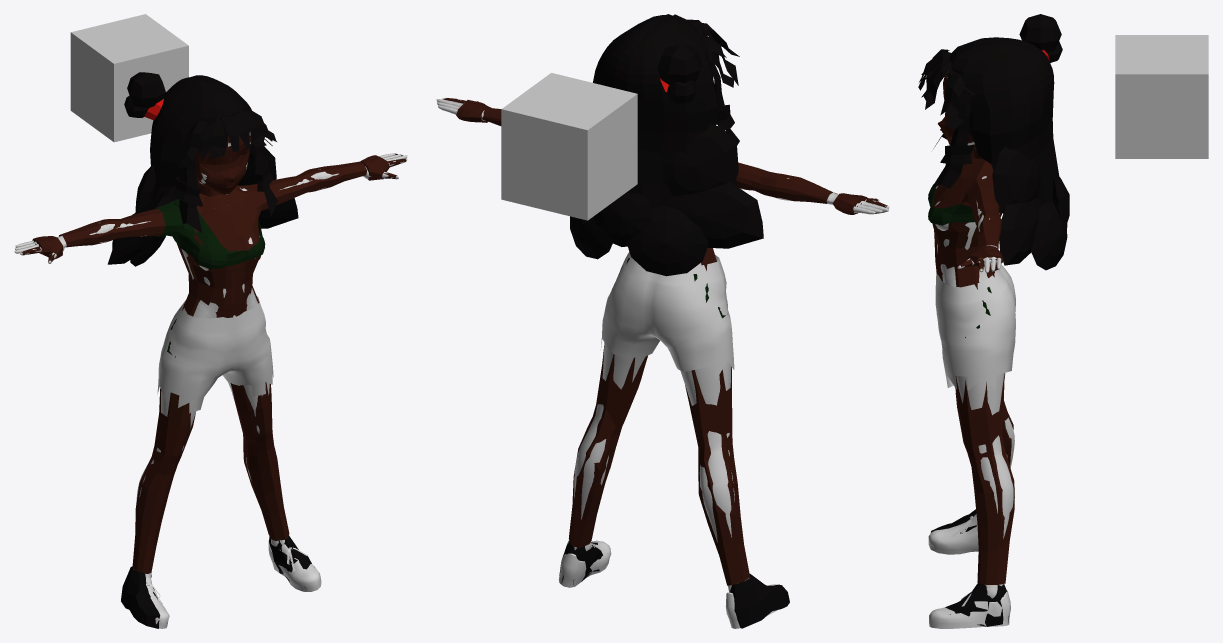
File: miskha LOW POLY 01.obj
3 renders of one model, left to right at view 1: azimuth 30°, elevation 25°; view 2: azimuth 150°, elevation 25°; view 3: azimuth 270°, elevation 25°, orthographic. The views are drawn at different scales.
Visible parts, largest first — view 1: Body_Plane, Cube, Body.045_Body_(merged).baked.045, Sphere, Arms_Plane.001, Shoes_Cube.001, Body.003_Plane.004, Body.002_Body_(merged).baked.002, Body.004_Plane.006, Sphere.002, Sphere.006, Sphere.008 (+8 smaller); view 2: Cube, Body.045_Body_(merged).baked.045, Sphere, Body_Plane, Body.002_Body_(merged).baked.002, Sphere.003, Sphere.002, Sphere.005, Shoes_Cube.001, Arms_Plane.001, Sphere.004, Cube.001_Cube.002 (+2 smaller); view 3: Cube, Sphere, Body_Plane, Body.045_Body_(merged).baked.045, Body.002_Body_(merged).baked.002, Sphere.005, Sphere.002, Sphere.003, Arms_Plane.001, Body.046_Body_(merged).baked.046, Shoes_Cube.001, Body.047_Body_(merged).baked.047 (+8 smaller).
Part boxes in pixels (x1,y1,x2,y2): Body_Plane: [132, 180, 289, 573]; Cube: [70, 14, 188, 142]; Body.045_Body_(merged).baked.045: [157, 296, 273, 411]; Sphere: [150, 75, 256, 209]; Arms_Plane.001: [59, 161, 366, 247]; Shoes_Cube.001: [121, 536, 314, 628]; Body.003_Plane.004: [168, 199, 265, 268]; Body.002_Body_(merged).baked.002: [89, 169, 363, 502]; Body.004_Plane.006: [195, 135, 251, 195]; Sphere.002: [107, 196, 298, 264]; Sphere.006: [179, 111, 272, 167]; Sphere.008: [200, 109, 276, 160]; Cube: [501, 73, 637, 220]; Body.045_Body_(merged).baked.045: [600, 252, 734, 380]; Sphere: [593, 15, 718, 209]; Body_Plane: [568, 248, 749, 585]; Body.002_Body_(merged).baked.002: [574, 178, 833, 542]; Sphere.003: [570, 206, 708, 276]; Sphere.002: [666, 182, 763, 248]; Sphere.005: [663, 124, 738, 195]; Shoes_Cube.001: [559, 541, 789, 628]; Arms_Plane.001: [482, 107, 837, 203]; Sphere.004: [594, 193, 652, 246]; Cube.001_Cube.002: [657, 45, 702, 84]; Cube: [1115, 35, 1208, 158]; Sphere: [949, 37, 1059, 204]; Body_Plane: [932, 144, 1014, 584]; Body.045_Body_(merged).baked.045: [935, 264, 1015, 390]; Body.002_Body_(merged).baked.002: [935, 144, 1014, 538]; Sphere.005: [992, 146, 1041, 213]; Sphere.002: [999, 199, 1042, 265]; Sphere.003: [1031, 196, 1067, 270]; Arms_Plane.001: [961, 175, 1001, 248]; Body.046_Body_(merged).baked.046: [929, 584, 1010, 628]; Shoes_Cube.001: [931, 509, 1009, 626]; Body.047_Body_(merged).baked.047: [928, 514, 978, 554].
Size of the model in its own units: 1.3 by 1.61 by 0.7684.
